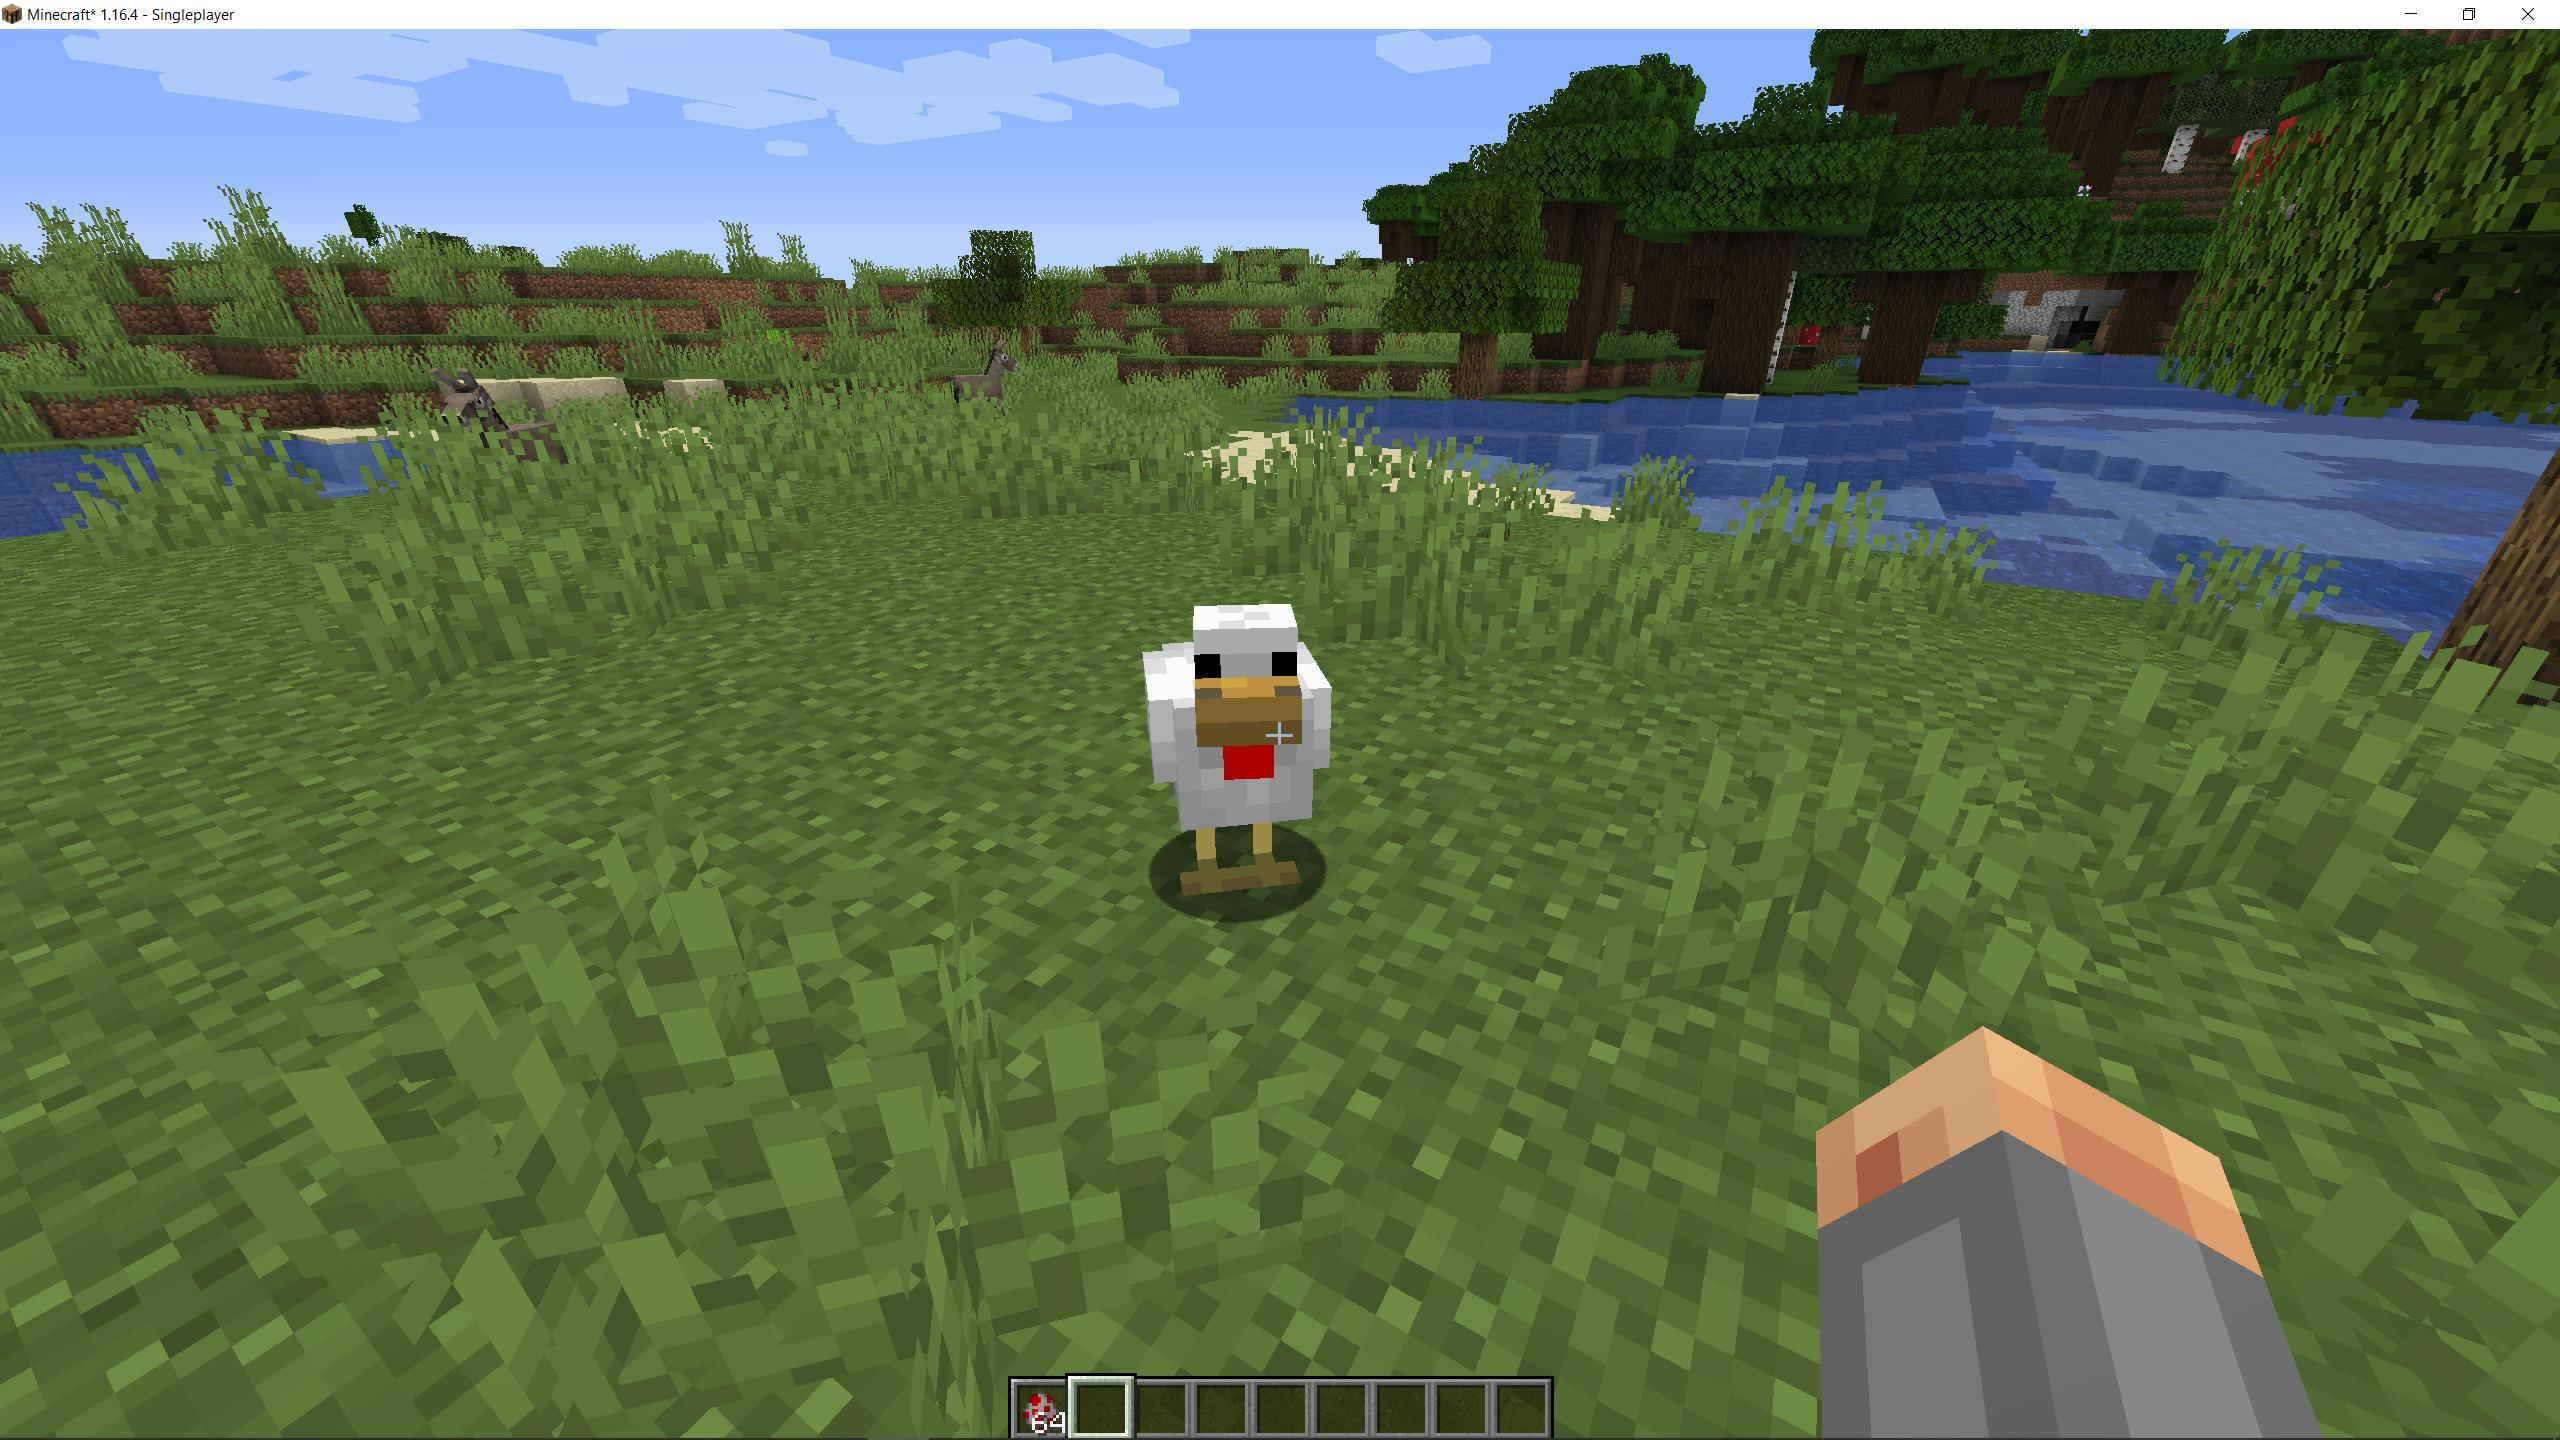chicken: (1129, 603, 1357, 913)
